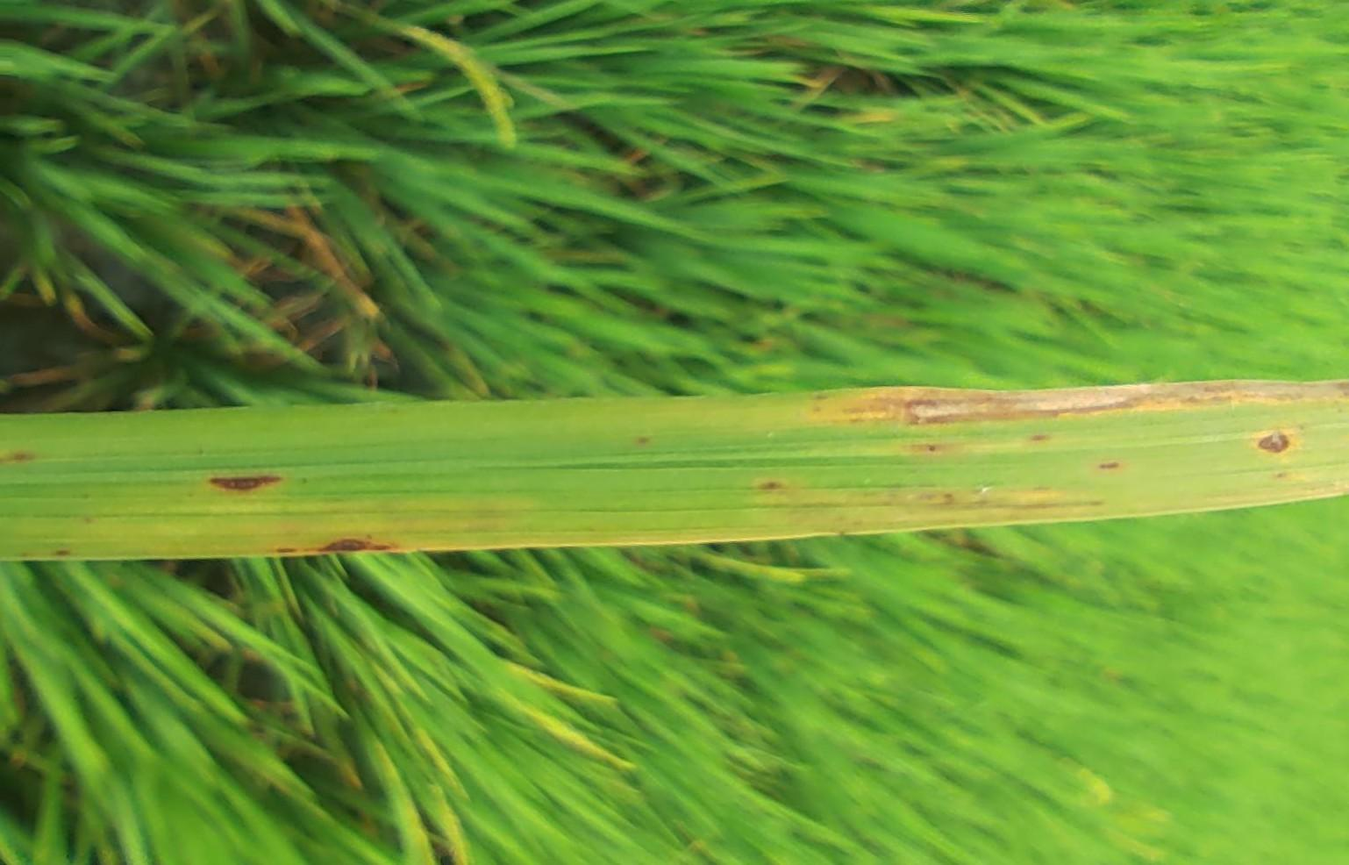LEAF: (0, 381, 1348, 562)
LEAF BLAST: (903, 382, 1348, 426), (278, 538, 397, 553), (208, 475, 284, 493), (1255, 430, 1291, 456)
